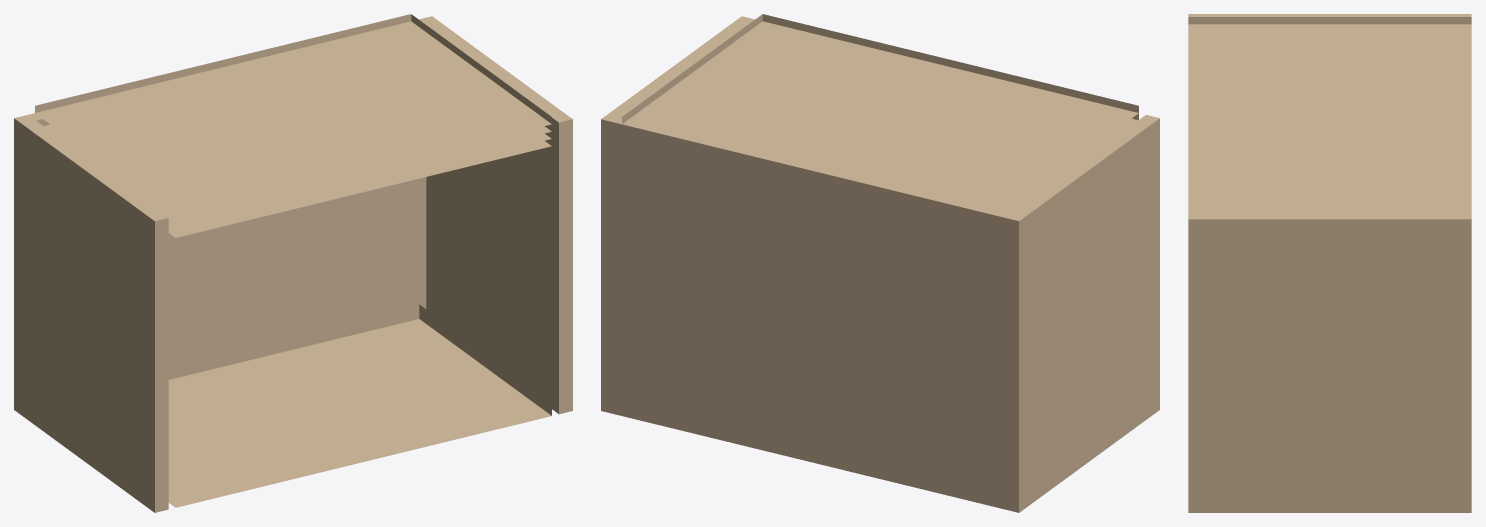
Rendered from crate.glb.
The picture shows the model from 3 angles, left to right: view 1: azimuth 30°, elevation 25°; view 2: azimuth 150°, elevation 25°; view 3: azimuth 270°, elevation 25°; orthographic projection.
Parts seen in each view (by area): view 1: wood; view 2: wood; view 3: wood.
Part boxes in pixels (x1,y1,x2,y2): wood: (14,14,572,512); wood: (601,14,1159,512); wood: (1188,14,1471,512).
Size of the model in its own units: 0.6 by 0.41 by 0.35.
